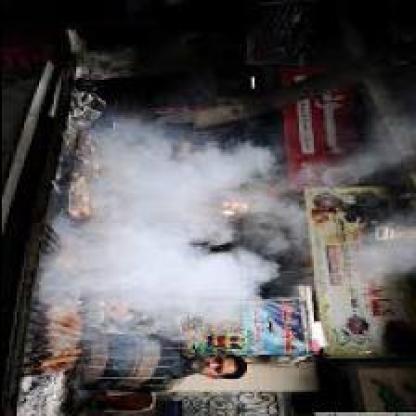Smoke: (20, 104, 416, 375)
